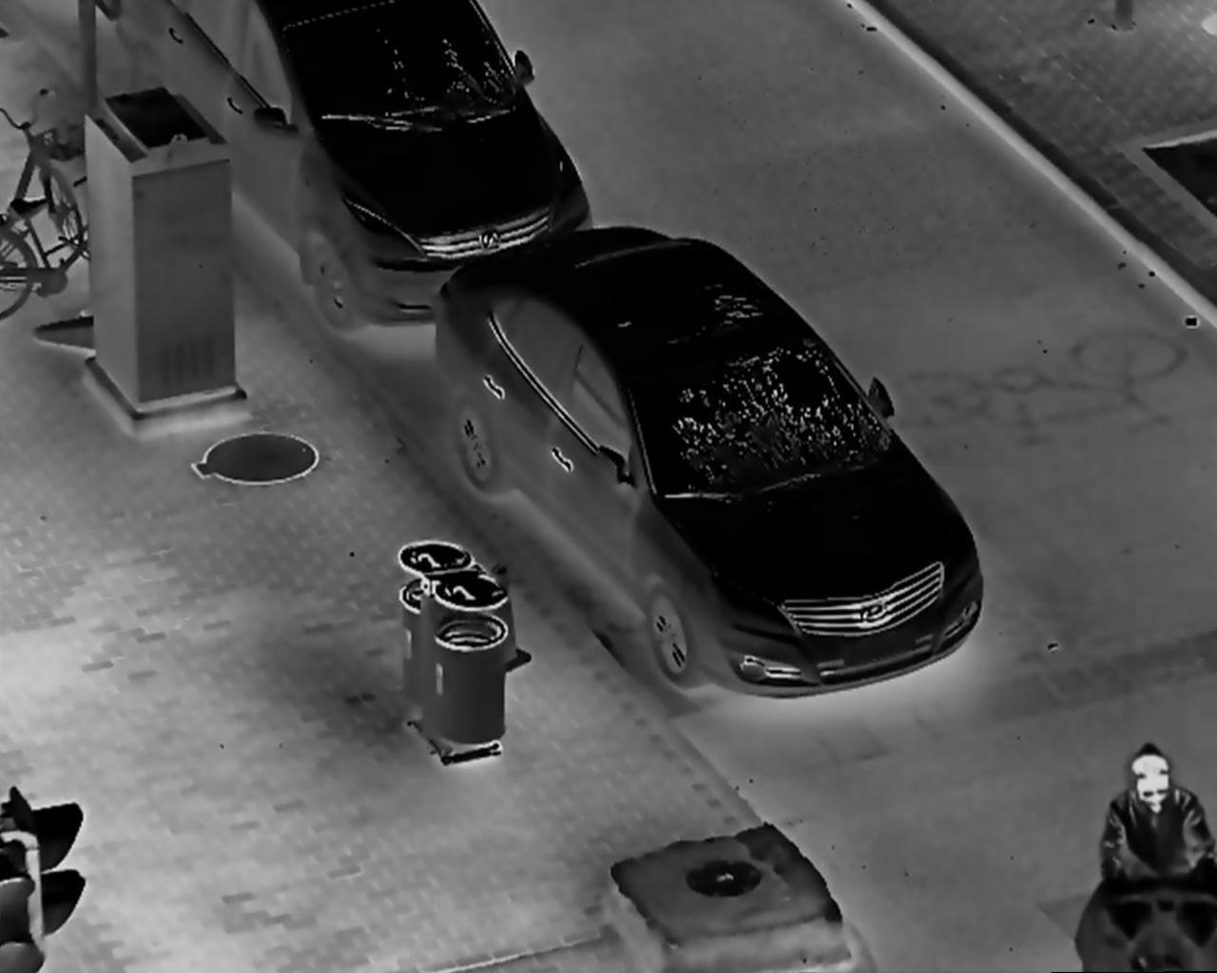person: (1093, 751, 1217, 969)
